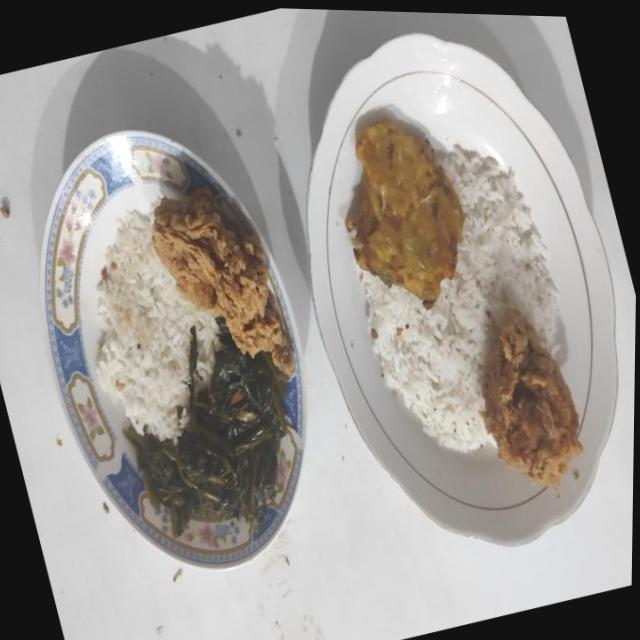nasi_putih: (362, 148, 558, 452), (96, 210, 219, 443)
tumis_kangkung: (124, 317, 296, 535)
